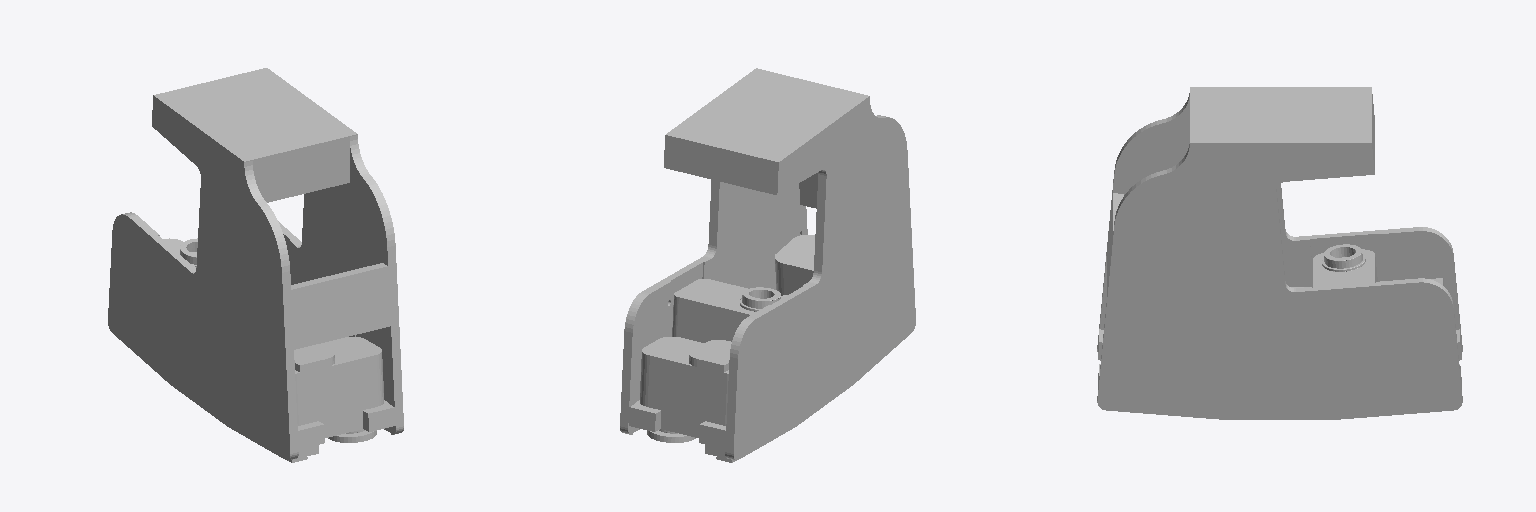
Rendered from base_link_left.obj.
The picture shows the model from 3 angles: view 1: azimuth 30°, elevation 25°; view 2: azimuth 150°, elevation 25°; view 3: azimuth 270°, elevation 25°; orthographic projection.
Visible parts, largest first — view 1: base_link_left; view 2: base_link_left; view 3: base_link_left.
Part boxes in pixels (bbox=[...]): base_link_left: bbox=[108, 68, 403, 462]; base_link_left: bbox=[620, 68, 915, 462]; base_link_left: bbox=[1097, 87, 1462, 419].
Bounding box in the file's own units: 0.0408 × 0.0967 × 0.1135.